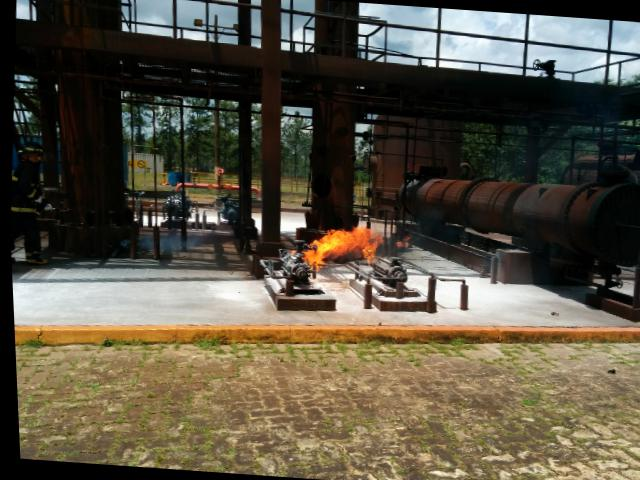fire: (295, 216, 372, 275)
